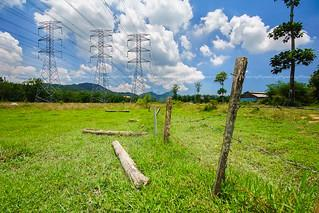power_tower: (30, 19, 67, 105), (86, 24, 116, 106), (125, 29, 154, 104)
